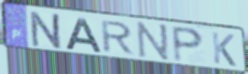A: (64, 17, 103, 54)
K: (210, 30, 238, 69)
N: (29, 10, 65, 52), (137, 20, 171, 63)
P: (170, 24, 206, 65)
R: (101, 19, 137, 56)
